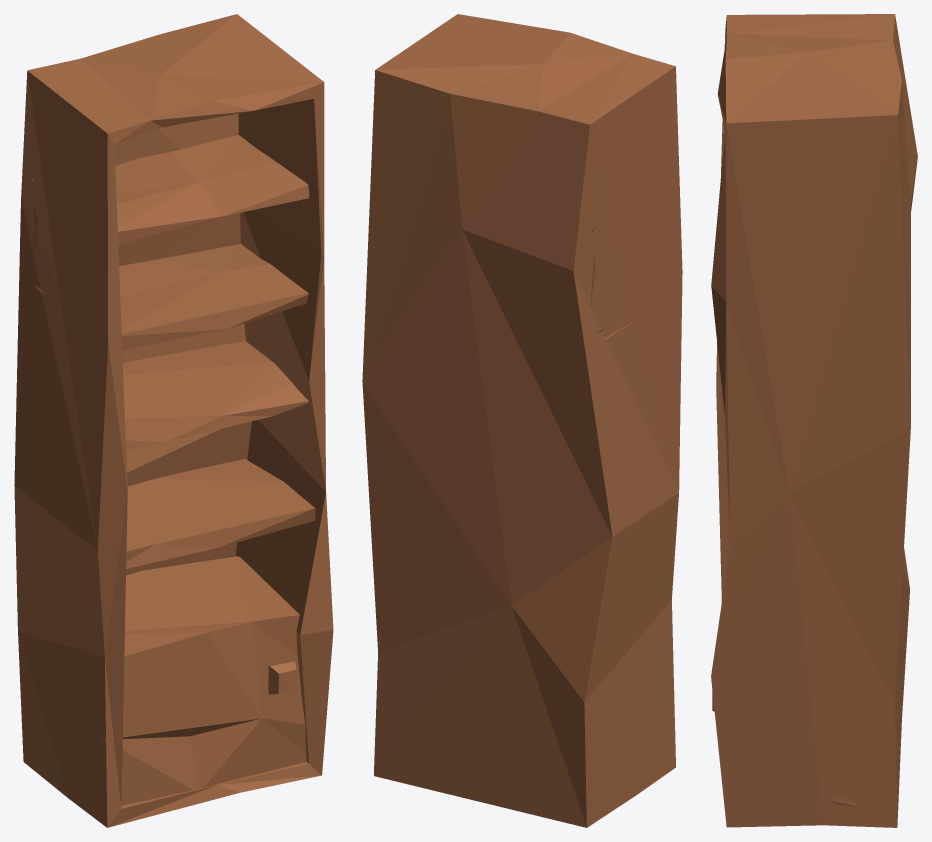
Rendered from Wardrobe01.fbx.
3 views of the same model, side by side, from view 1: azimuth 30°, elevation 25°; view 2: azimuth 150°, elevation 25°; view 3: azimuth 270°, elevation 25° (orthographic).
Parts seen in each view (by area): view 1: Wardrobe01; view 2: Wardrobe01; view 3: Wardrobe01.
Part boxes in pixels (x1,y1,x2,y2): Wardrobe01: [14, 14, 333, 827]; Wardrobe01: [362, 14, 682, 827]; Wardrobe01: [711, 14, 917, 827].
Bounding box in the file's own units: 80.2 × 229 × 60.
